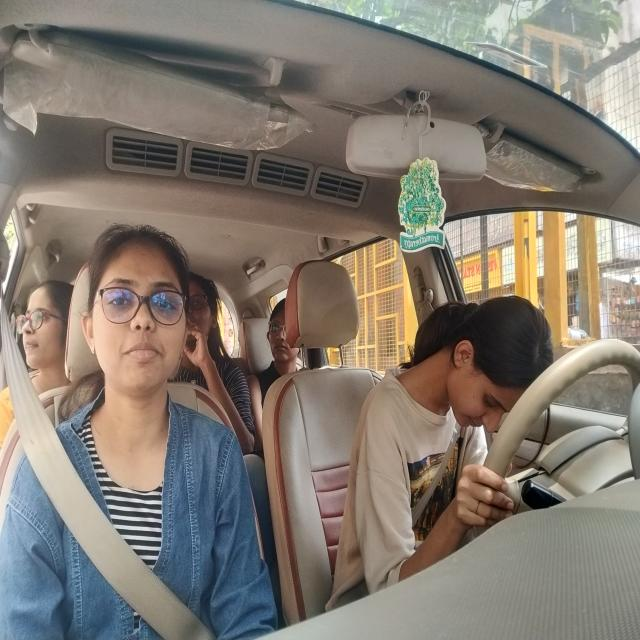drowsy: (442, 287, 556, 432)
person: (80, 224, 187, 395), (15, 277, 75, 380), (184, 275, 221, 363), (259, 299, 299, 360)
